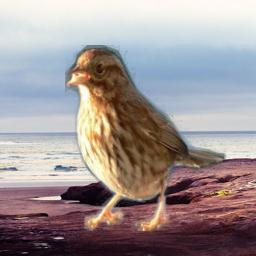Sparrow: (65, 45, 227, 231)
